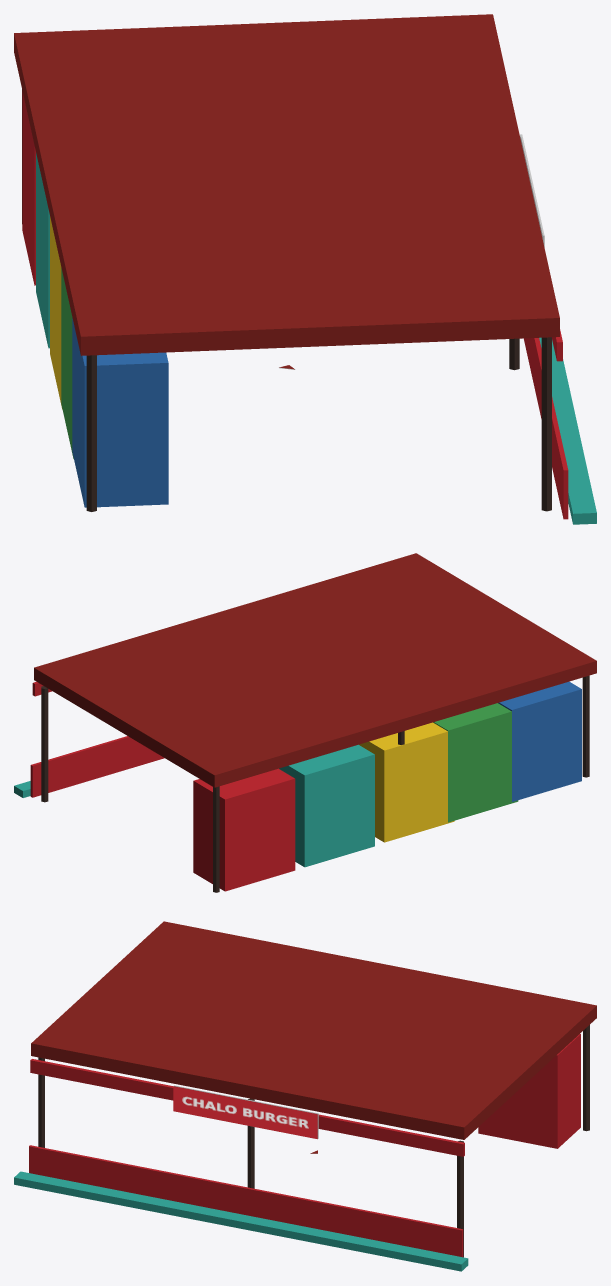
File: chalo_burger.glb
3 renders of one model, top to bottom at view 1: azimuth 30°, elevation 25°; view 2: azimuth 150°, elevation 25°; view 3: azimuth 270°, elevation 25°, orthographic. The views are drawn at different scales.
Visible parts, largest first — view 1: chalo_burger_lod0; view 2: chalo_burger_lod0; view 3: chalo_burger_lod0.
Boxes of the visible parts, <box> form: chalo_burger_lod0: <box>14,14,596,524</box>; chalo_burger_lod0: <box>14,553,596,892</box>; chalo_burger_lod0: <box>14,921,596,1271</box>.
Size of what is drawn, in the model's own units: 12.91 by 3.74 by 14.68.
Materials: 10 (1 with a texture image).
